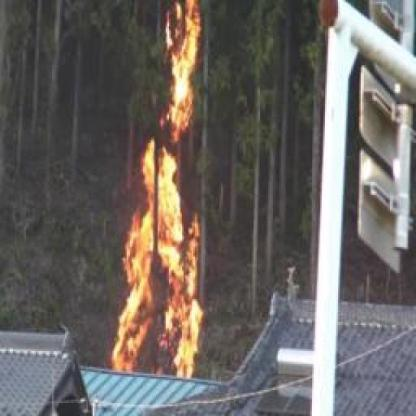fire: (115, 9, 220, 378)
